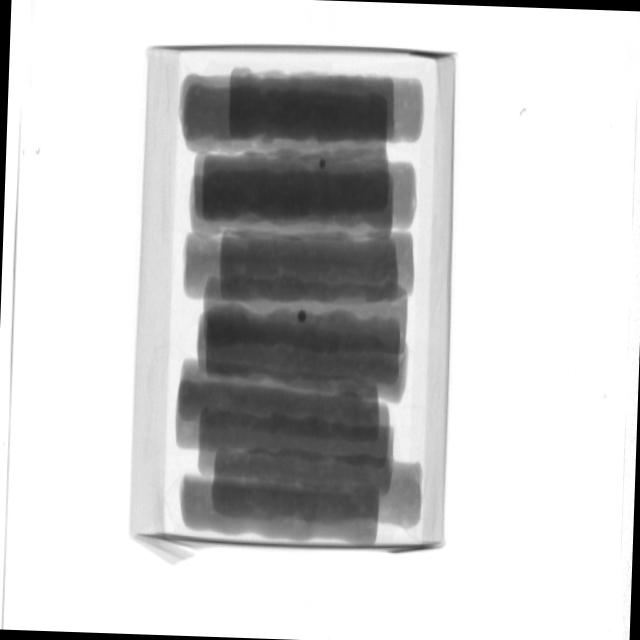ym: (297, 312, 306, 323), (320, 161, 328, 171)
